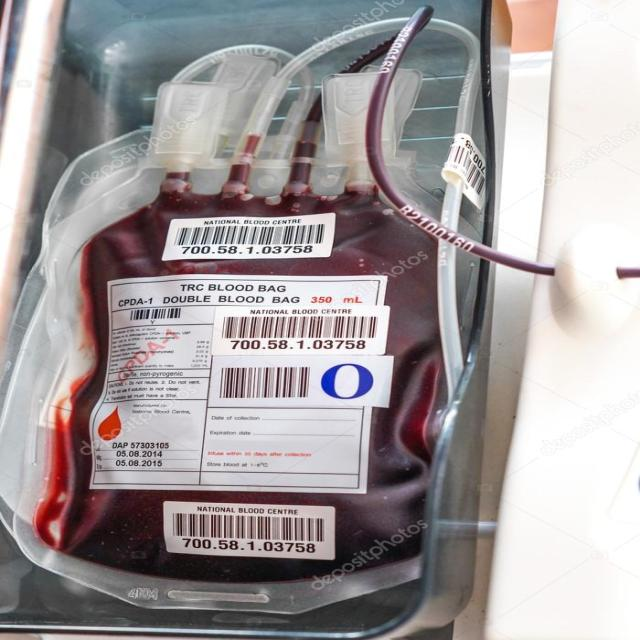B3: (10, 125, 483, 624)
